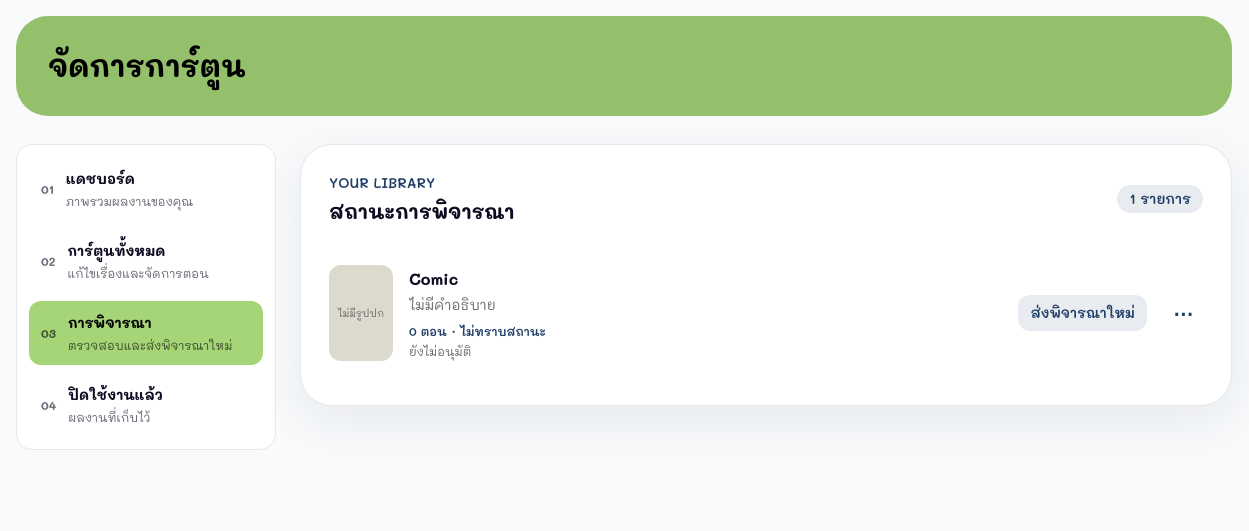
Scenario: creator can resubmit rejected work and receives success or error feedback
The image size is (1249, 531).
What coordinates should you click on to do the following:
click the button "ส่งพิจารณาใหม่"
I would click on:
 (1083, 313)
Its box is [1018, 295, 1147, 331].
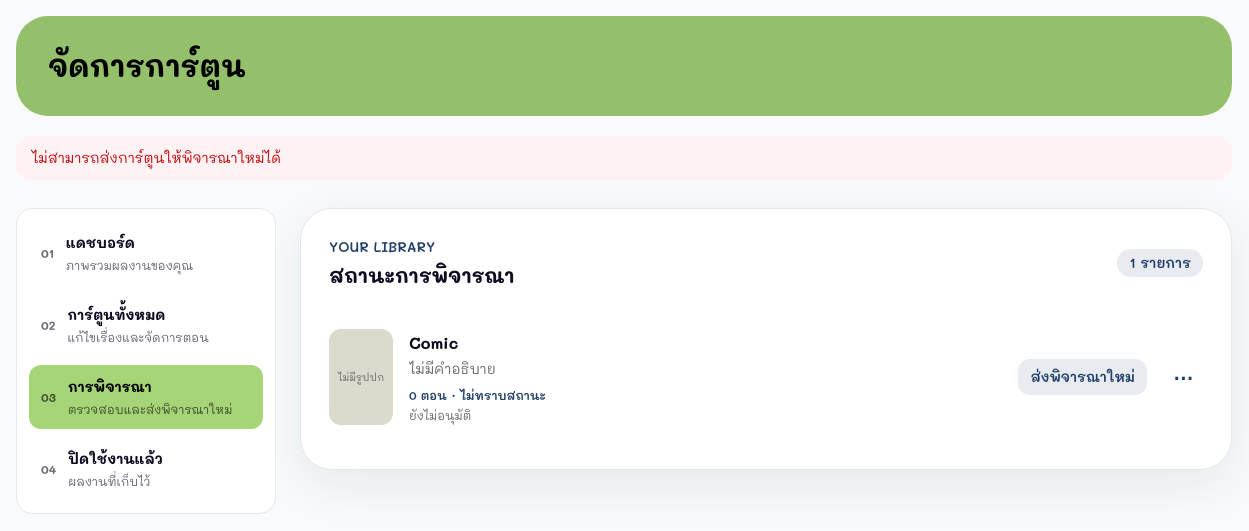
Check: the message "ไม่สามารถส่งการ์ตูนให้พิจารณาใหม่ได้" is shown, box [16, 136, 1232, 180]
What coordinates should you click on to do the following:
click the button "ส่งพิจารณาใหม่"
I would click on:
 (1083, 377)
Its box is [1018, 359, 1147, 395].
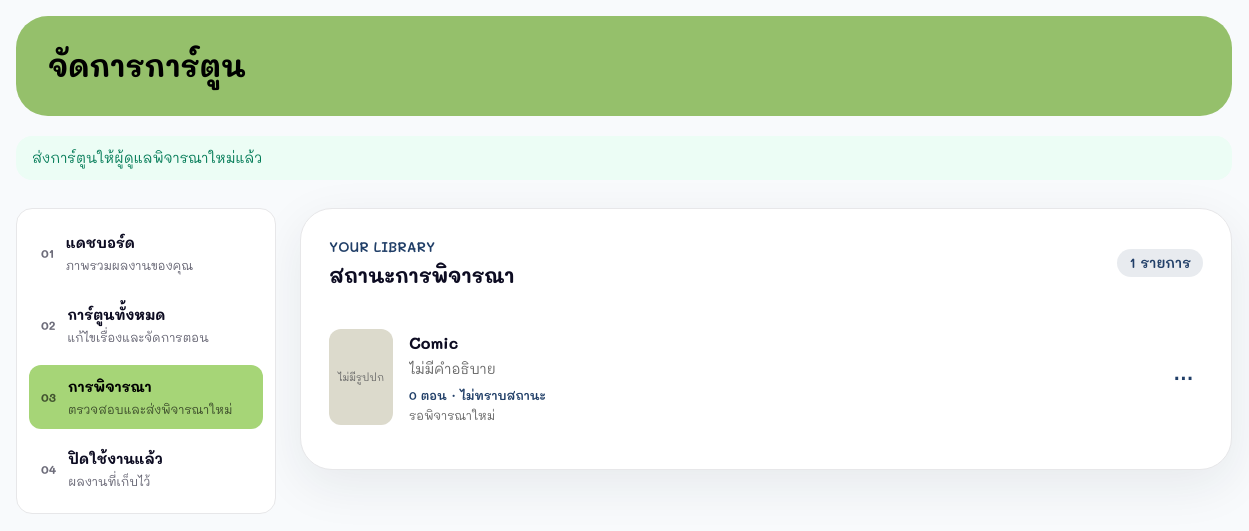
Check: the text "ส่งการ์ตูนให้ผู้ดูแลพิจารณาใหม่แล้ว" is shown, box [16, 136, 1232, 180]
